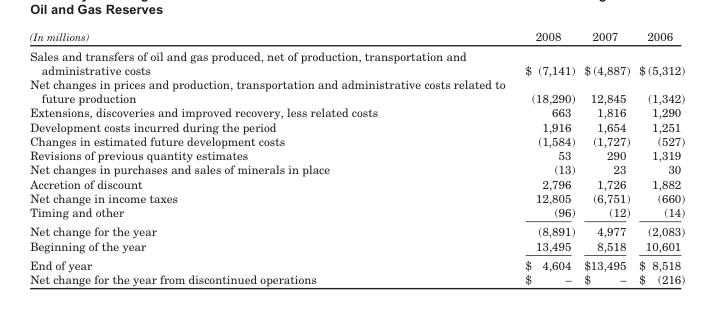table: (29, 29, 684, 285)
table column: (29, 29, 514, 285), (514, 29, 578, 285), (578, 29, 633, 285), (633, 29, 684, 285)
table column header: (29, 29, 684, 45)
table row: (29, 45, 684, 76), (29, 76, 684, 105), (29, 204, 684, 221), (29, 221, 684, 238), (29, 254, 684, 271), (29, 29, 684, 45), (29, 238, 684, 254), (29, 161, 684, 176), (29, 105, 684, 119), (29, 119, 684, 133), (29, 133, 684, 147), (29, 147, 684, 161), (29, 176, 684, 190), (29, 190, 684, 204), (29, 271, 684, 285)
